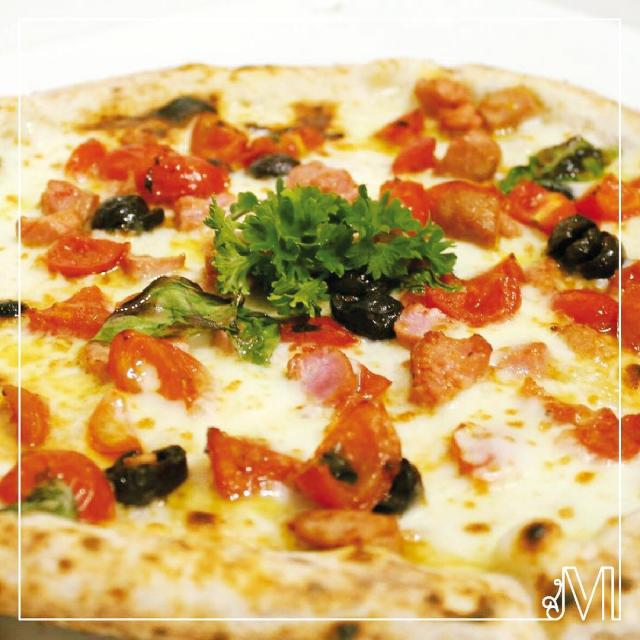basil: (90, 276, 243, 353), (500, 136, 623, 192), (225, 304, 292, 366), (0, 479, 77, 521)
black_olives: (102, 444, 189, 508), (91, 188, 181, 238), (334, 289, 412, 339), (378, 456, 423, 512), (546, 213, 597, 260), (582, 234, 627, 278), (246, 152, 306, 180), (320, 452, 357, 483)
pizza: (0, 55, 640, 640)
tomatoes: (295, 398, 397, 520), (110, 330, 218, 412), (1, 449, 110, 522), (282, 341, 396, 410), (422, 251, 525, 319), (410, 327, 490, 412), (212, 424, 298, 503), (422, 182, 510, 250), (137, 155, 237, 205), (26, 283, 109, 338), (47, 234, 137, 275), (578, 404, 640, 460), (506, 180, 577, 228), (92, 392, 138, 463), (609, 258, 640, 359), (550, 286, 618, 331), (39, 179, 104, 226), (380, 176, 432, 233), (579, 174, 640, 222), (188, 112, 244, 164), (283, 315, 355, 353), (107, 148, 172, 181), (389, 135, 445, 173), (18, 213, 86, 244), (373, 106, 428, 140), (70, 139, 106, 180)
